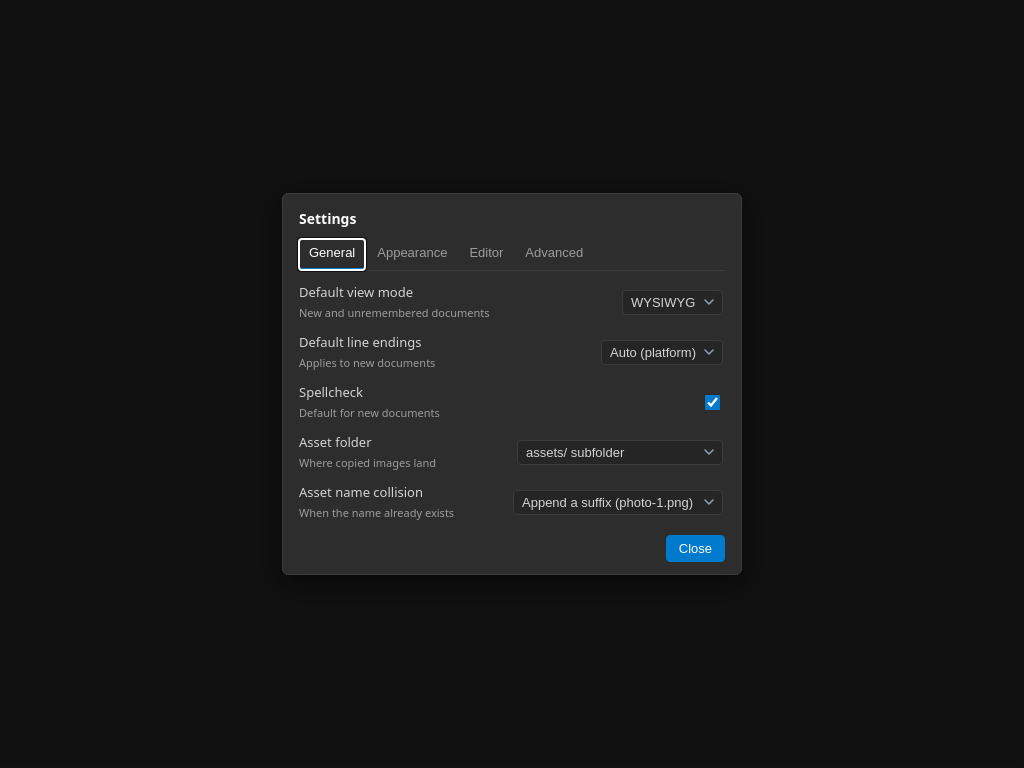
Test: SettingsDialog component (issue #94) › the Appearance tab exposes mode, theme, editor font, line numbers, and UI scale
This screenshot has width=1024, height=768.
Click the tab "Appearance": (412, 254) [367, 239, 457, 270]
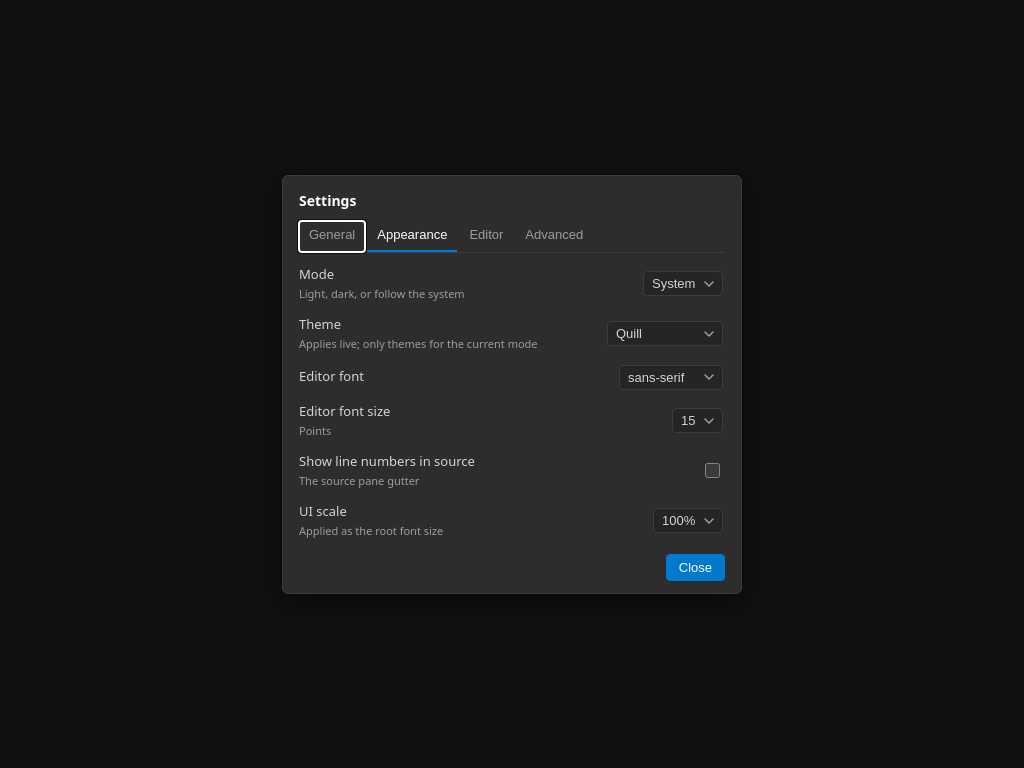
expect the text "Mode" is shown: met, box [299, 264, 334, 282]
expect the dropdown in the row of "Light, dark, or follow the system" shows "System": met, box [643, 271, 723, 296]
expect the text "Theme" is shown: met, box [299, 314, 341, 332]
